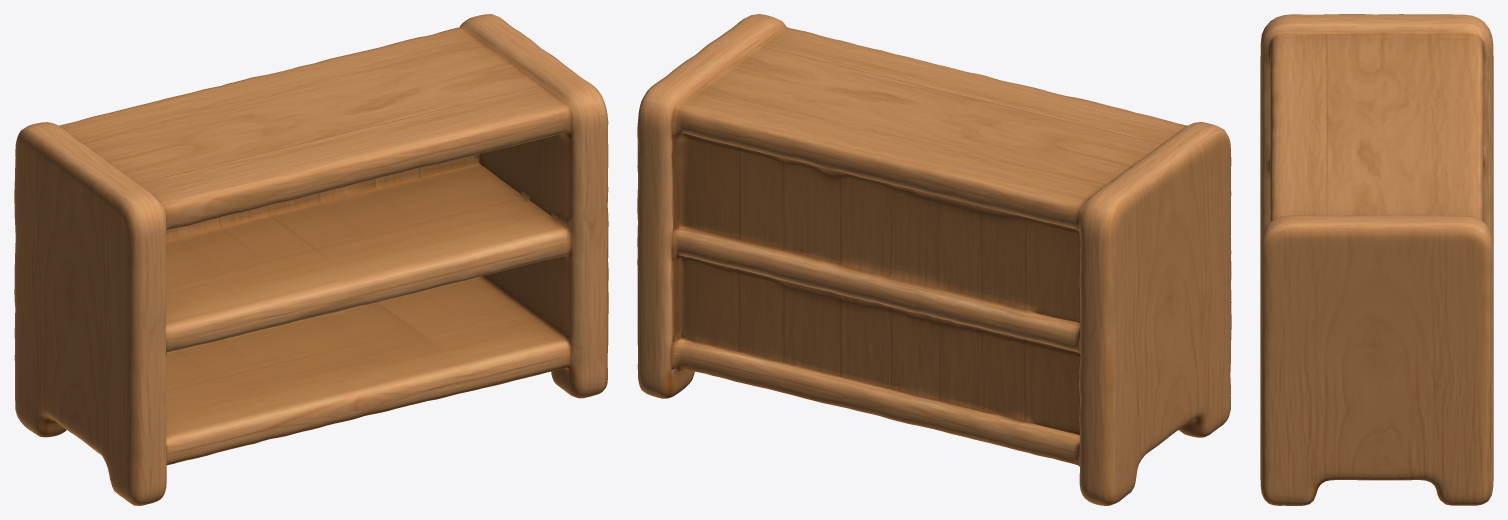
The picture shows the model from 3 angles, left to right: view 1: azimuth 30°, elevation 25°; view 2: azimuth 150°, elevation 25°; view 3: azimuth 270°, elevation 25°; orthographic projection. The views are drawn at different scales.
Parts seen in each view (by area): view 1: tripo_node_f2431828; view 2: tripo_node_f2431828; view 3: tripo_node_f2431828.
Part boxes in pixels (x1,y1,x2,y2): tripo_node_f2431828: (14,14,608,505); tripo_node_f2431828: (637,14,1231,505); tripo_node_f2431828: (1260,14,1493,505).
Bounding box in the file's own units: 99.96 × 60.98 × 45.45.
1 material, 1 textured.
